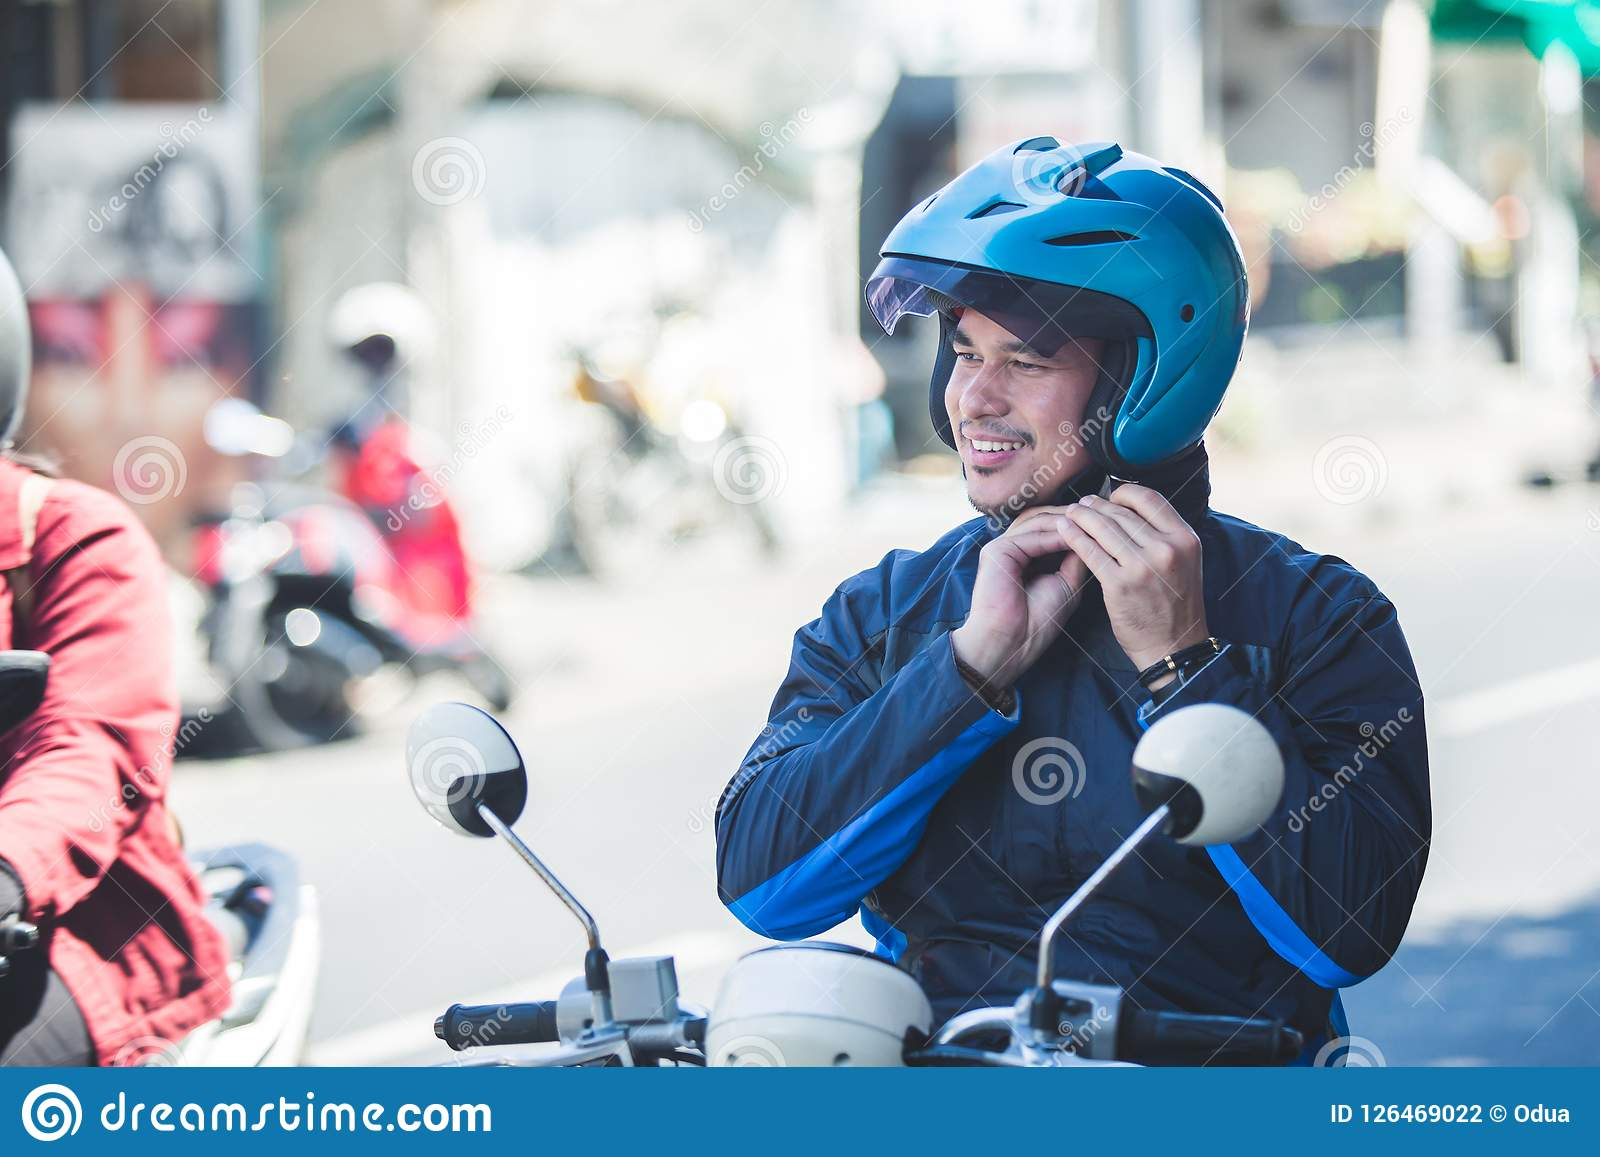helmet: (911, 164, 1250, 495)
